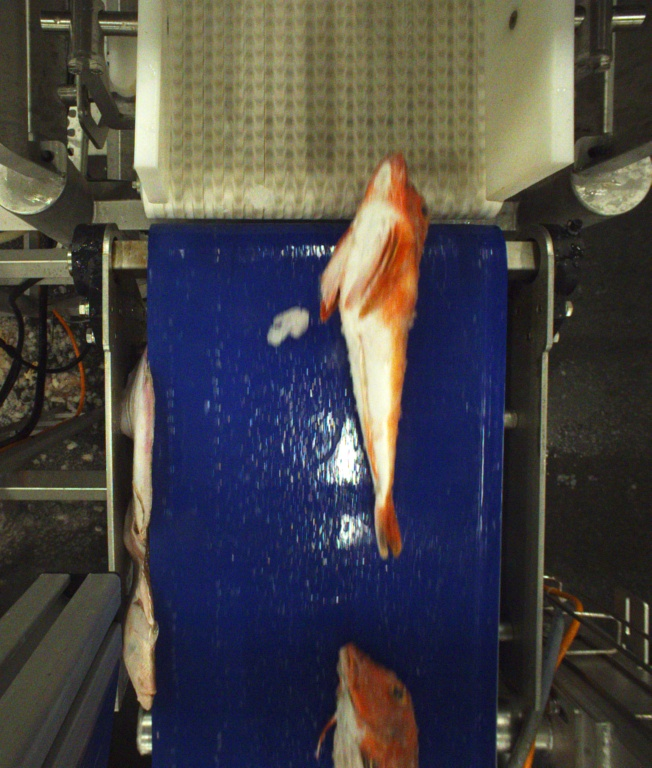GUU: (318, 154, 429, 557)
